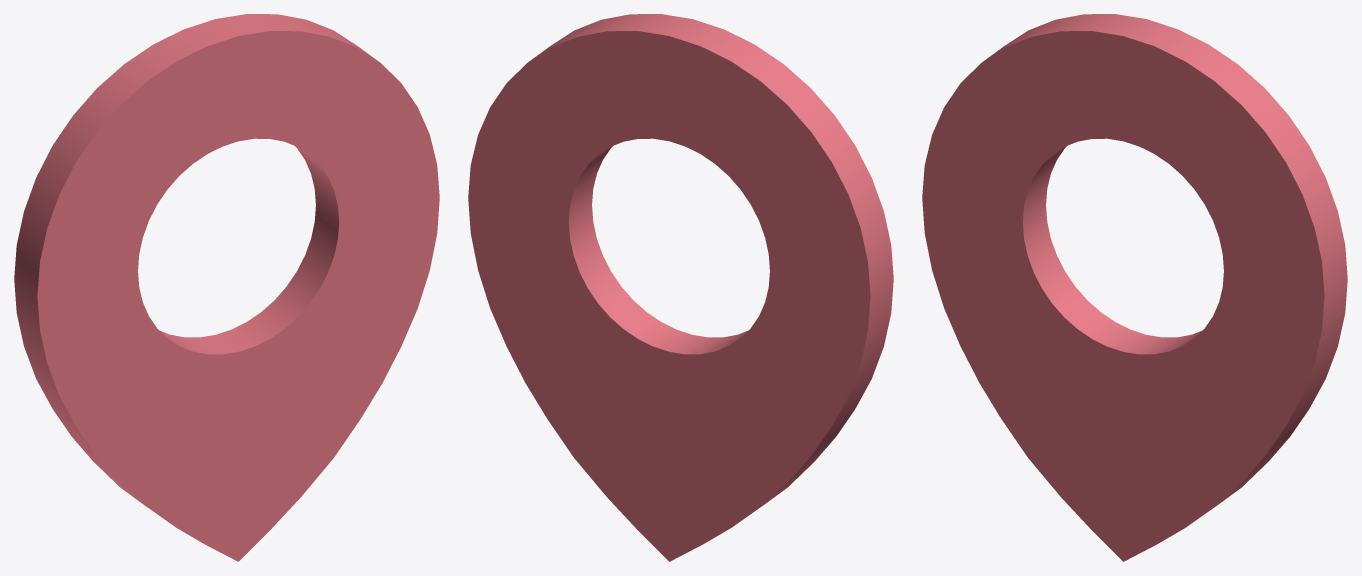
Rendered from Pin.fbx.
The picture shows the model from 3 angles, left to right: view 1: azimuth 30°, elevation 25°; view 2: azimuth 150°, elevation 25°; view 3: azimuth 330°, elevation 25°; orthographic projection.
Parts seen in each view (by area): view 1: Mesh; view 2: Mesh; view 3: Mesh.
Part boxes in pixels (bbox=[...]): Mesh: bbox=[14, 14, 439, 561]; Mesh: bbox=[468, 14, 893, 561]; Mesh: bbox=[922, 14, 1347, 561].
Size of the model in its own units: 10 by 12.49 by 1.
